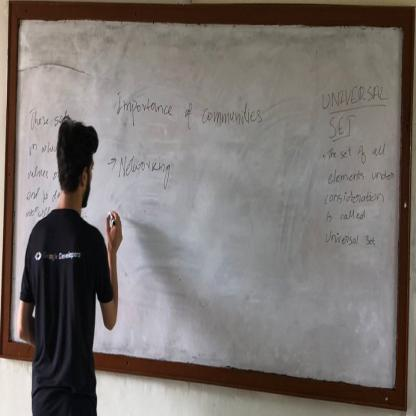Handwritten text: (109, 82, 266, 134), (117, 148, 177, 194), (316, 77, 391, 111), (324, 140, 389, 165), (325, 164, 395, 186), (321, 228, 377, 252), (321, 188, 390, 205), (322, 206, 374, 223), (328, 111, 357, 139), (23, 155, 49, 183), (27, 104, 52, 131)
Lecturer: (28, 116, 121, 380)
Whiteboard: (3, 10, 411, 400)
